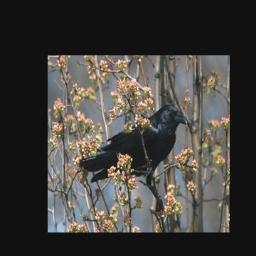Crow: (82, 101, 192, 210)
